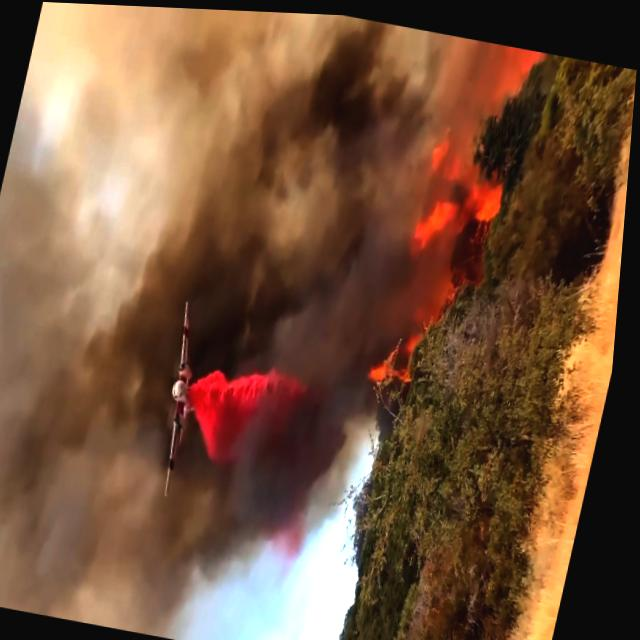Smoke: (117, 5, 459, 345), (0, 247, 209, 631)
